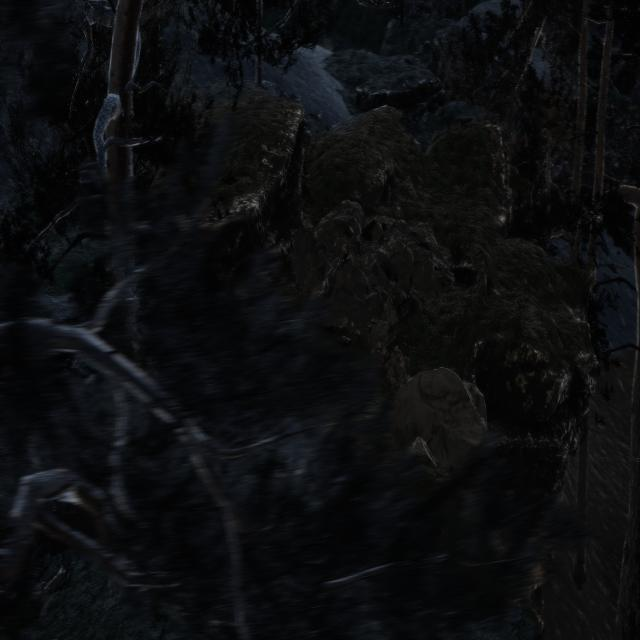Human: (195, 340, 235, 448)
